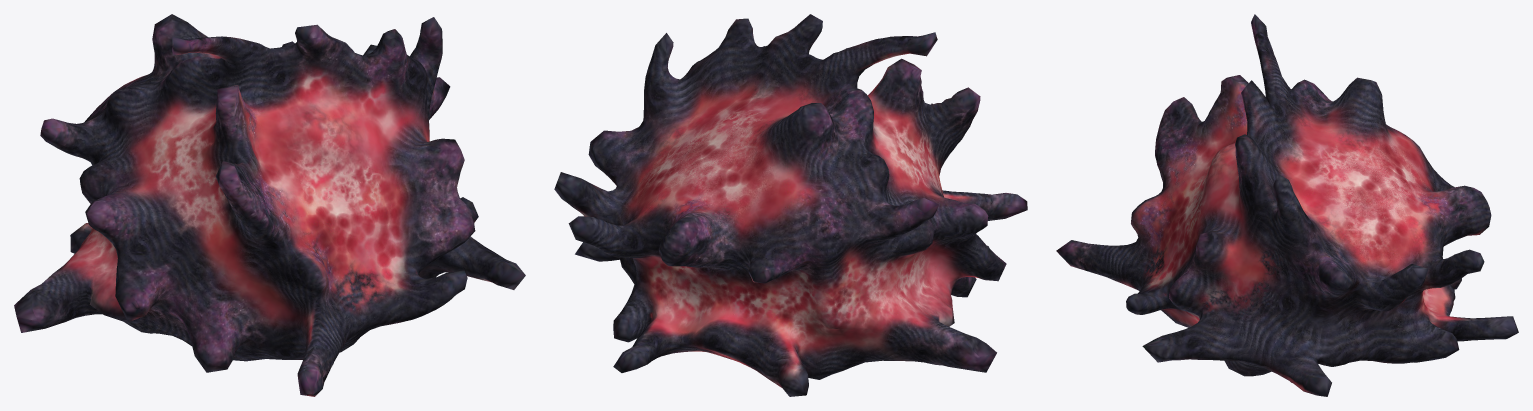
File: alieno1.obj
3 renders of one model, left to right at view 1: azimuth 30°, elevation 25°; view 2: azimuth 150°, elevation 25°; view 3: azimuth 270°, elevation 25°, orthographic. The views are drawn at different scales.
Visible parts, largest first — view 1: AlienGrub1; view 2: AlienGrub1; view 3: AlienGrub1.
Boxes of the visible parts, x1=… form: AlienGrub1: x1=14, y1=14, x2=525, y2=396; AlienGrub1: x1=554, y1=14, x2=1027, y2=396; AlienGrub1: x1=1056, y1=14, x2=1518, y2=396.
Size of the model in its own units: 6.4 by 4.4 by 6.75.
